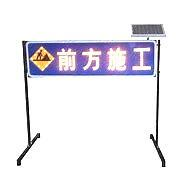sign: (22, 41, 160, 75)
